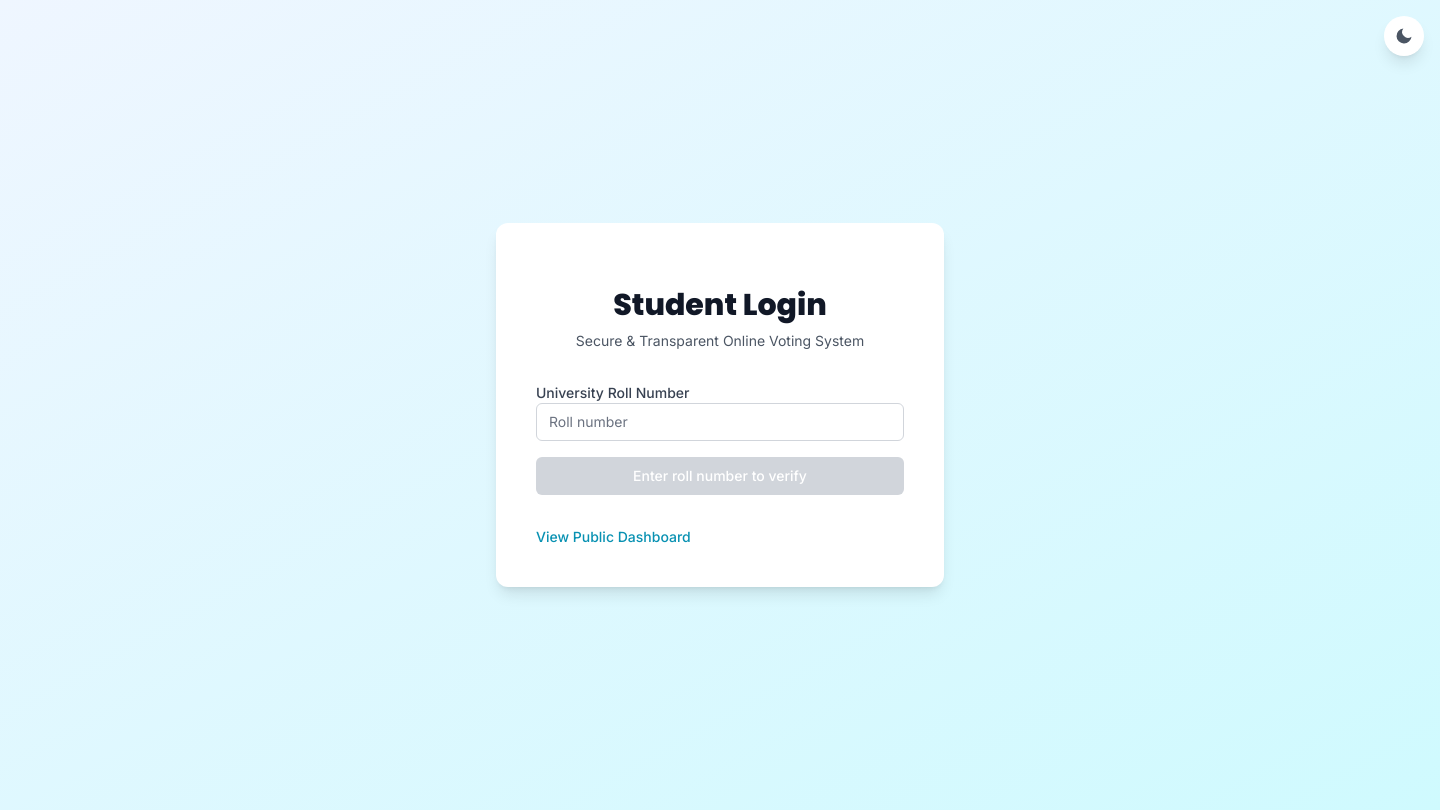
Test: Login flow › lookup failure shows error and does not prompt email
The image size is (1440, 810).
Step 1. Type "U9999999" into the field with placeholder "Roll Number" → (720,422), box [536, 403, 904, 441]
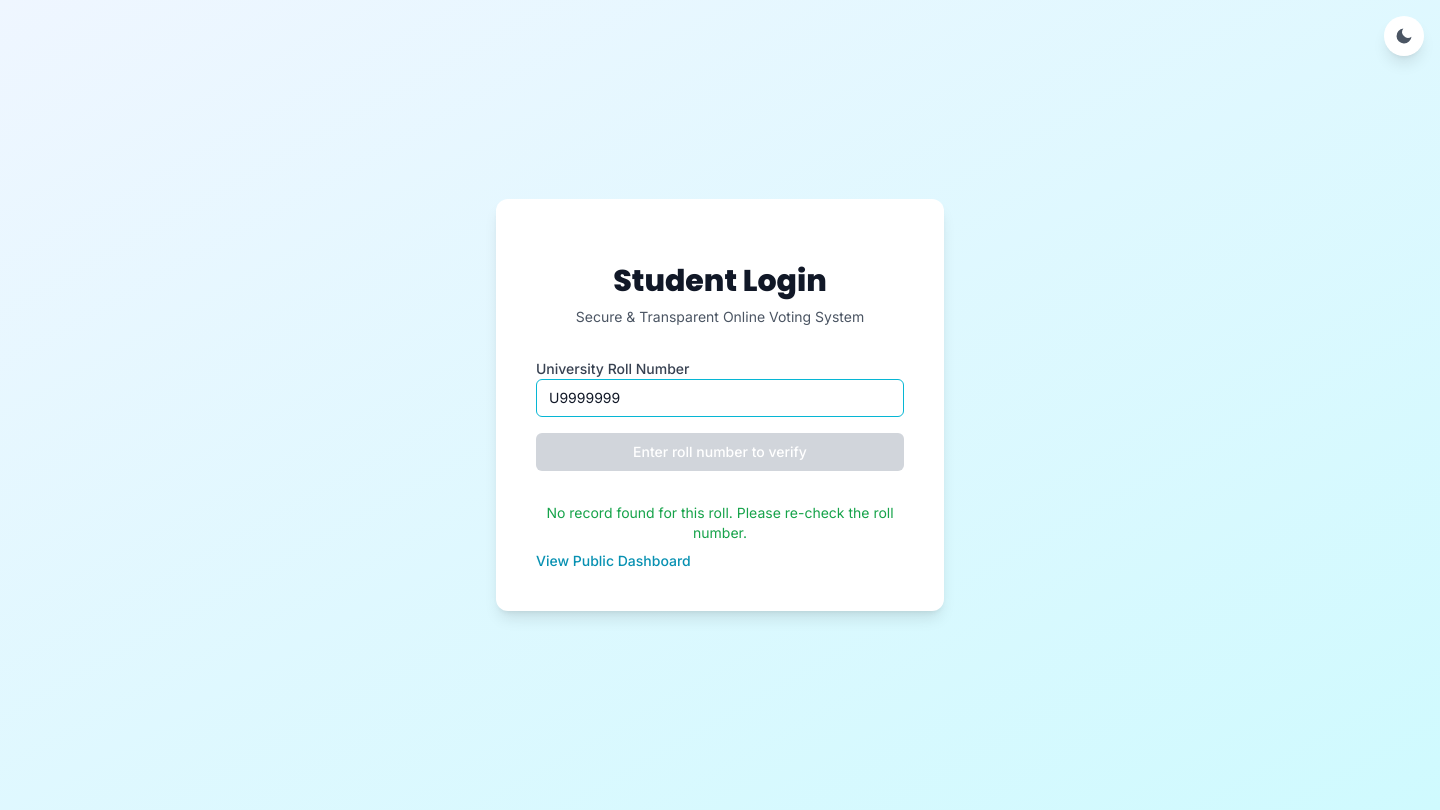
Expected: the text "No record found for this roll" is shown, [546, 504, 894, 541]
